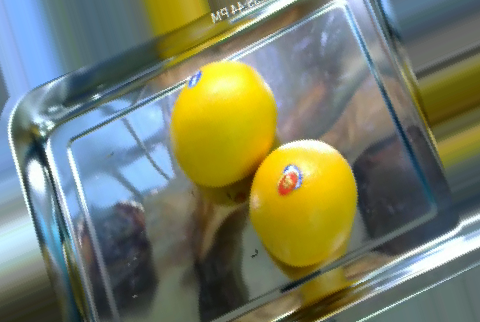Orange: (247, 140, 358, 267), (169, 61, 277, 188)
